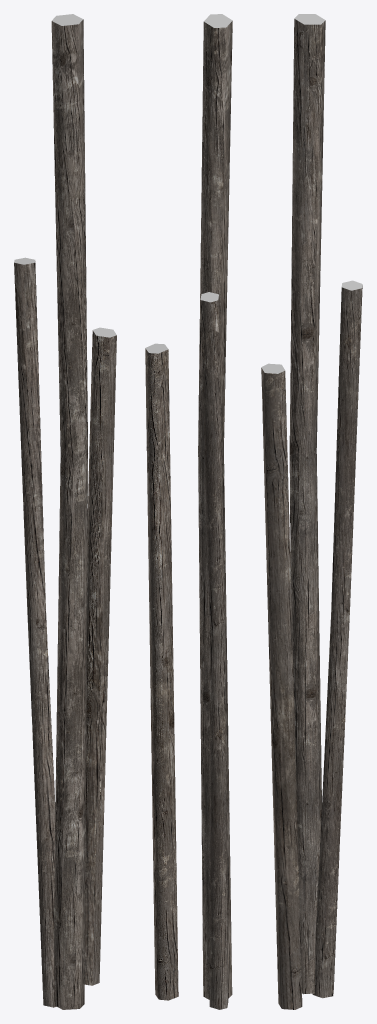
File: Pole2_LOD2.fbx
The picture shows the model from 3 angles, left to right: view 1: azimuth 90°, elevation 25°; view 2: azimuth 210°, elevation 25°; view 3: azimuth 270°, elevation 25°; orthographic projection.
Visible parts, largest first — view 1: polySurface1401; view 2: polySurface1401; view 3: polySurface1401.
Boxes of the visible parts, x1,y1,x2,y2 form: polySurface1401: (14,14,116,1009); polySurface1401: (145,14,232,1009); polySurface1401: (261,14,362,1009).
Size of the model in its own units: 0.4309 by 6.19 by 0.5848.
